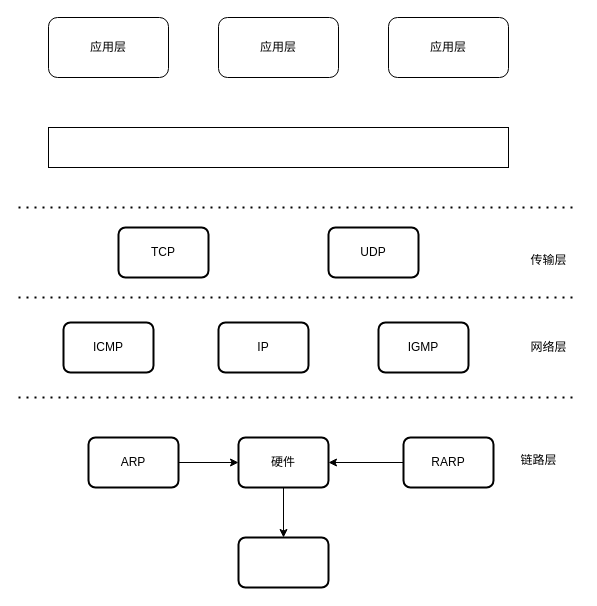
This 597x606 diagram has some shape labels left out. Here are the shapes that lost their labels. From the top down, the centre of each, then its label:
pixel 278 147: Socket抽象层
pixel 283 562: 媒体
